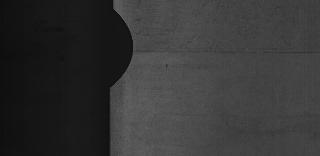welding line: (128, 49, 320, 61)
